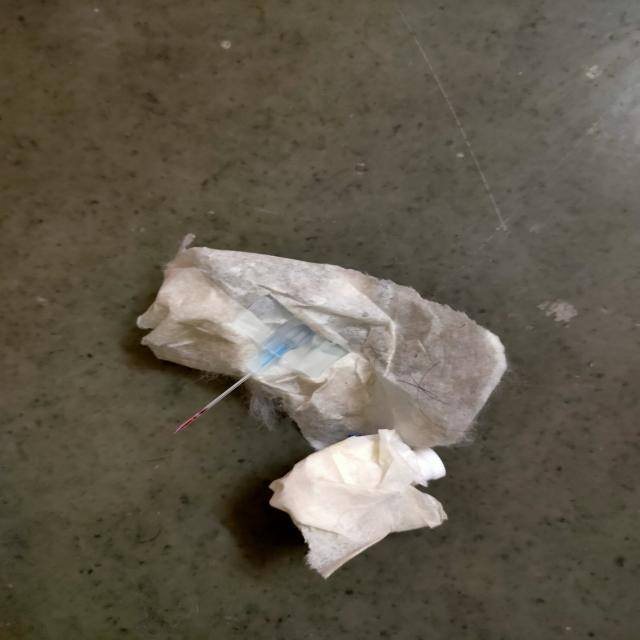B3: (169, 294, 347, 434)
